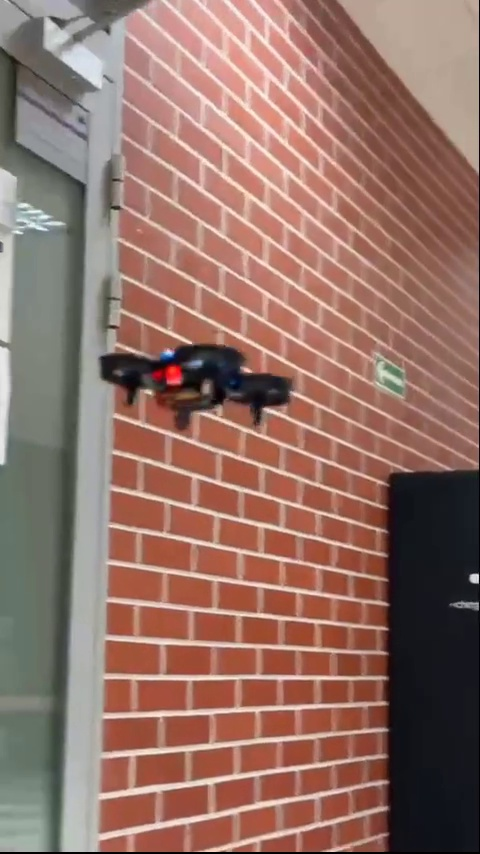drone: (97, 347, 293, 434)
